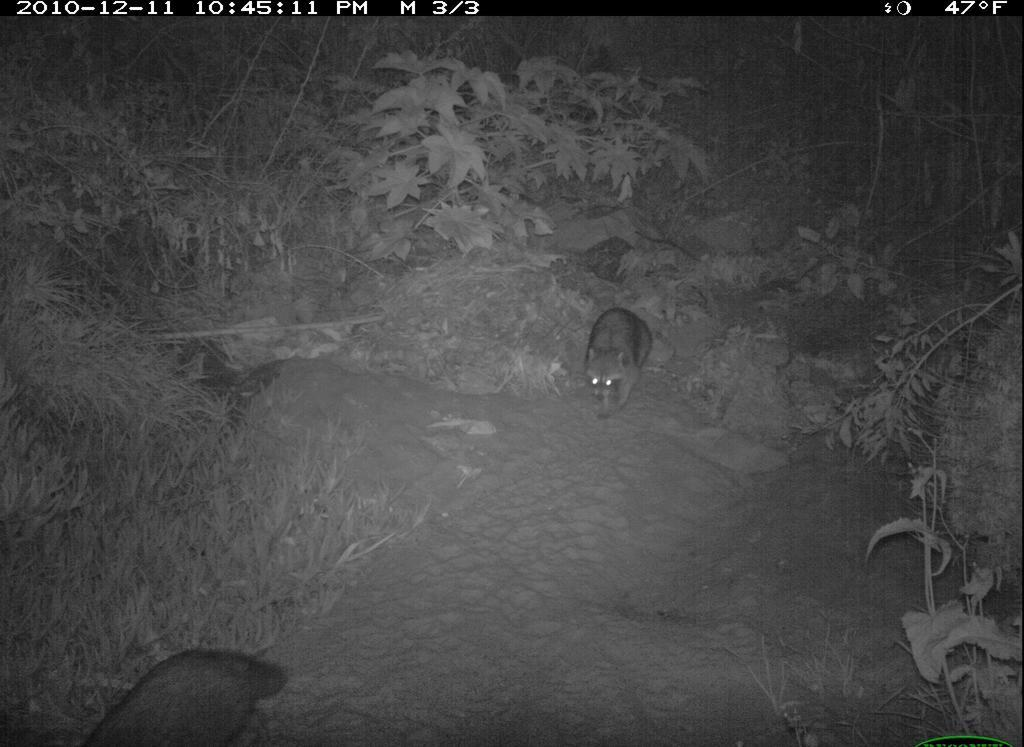raccoon: (50, 647, 299, 745), (582, 303, 655, 424)
